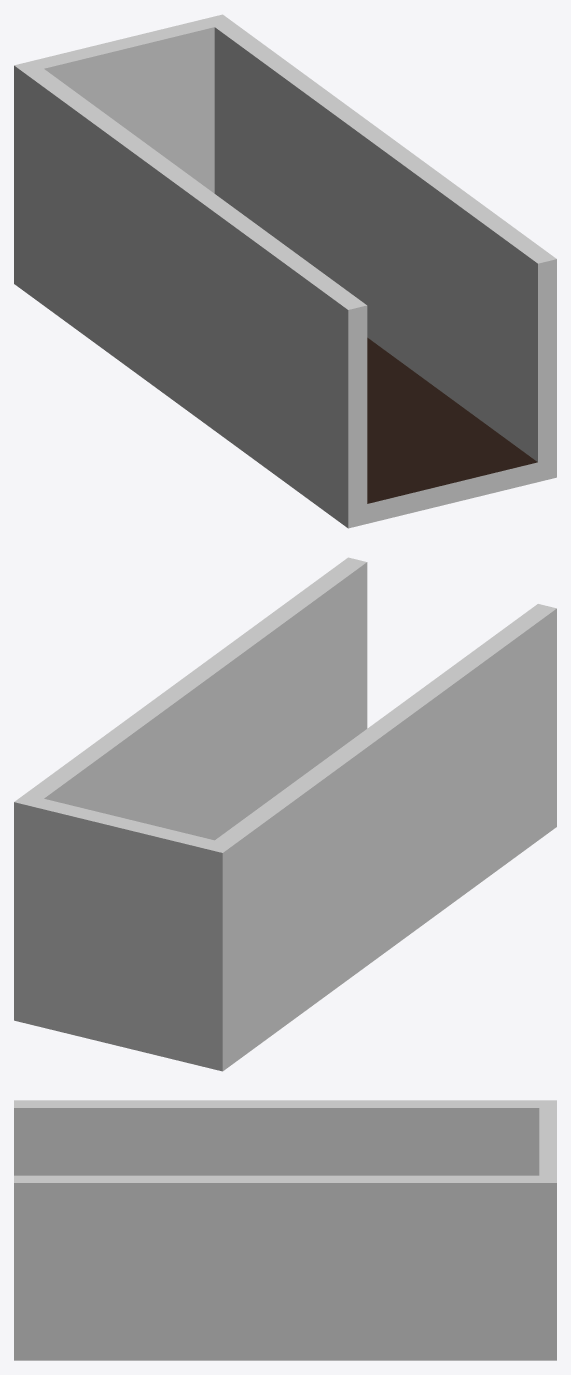
The model's file is DiceGameRoom.FBX.
The picture shows the model from 3 angles, top to bottom: view 1: azimuth 30°, elevation 25°; view 2: azimuth 150°, elevation 25°; view 3: azimuth 270°, elevation 25°; orthographic projection. The views are drawn at different scales.
Visible parts, largest first — view 1: DiceGameRoom; view 2: DiceGameRoom; view 3: DiceGameRoom.
Part boxes in pixels (x1,y1,x2,y2): DiceGameRoom: (14,14,556,528); DiceGameRoom: (14,557,556,1071); DiceGameRoom: (14,1100,556,1360).
Bounding box in the file's own units: 2.2 × 2.2 × 6.1.
